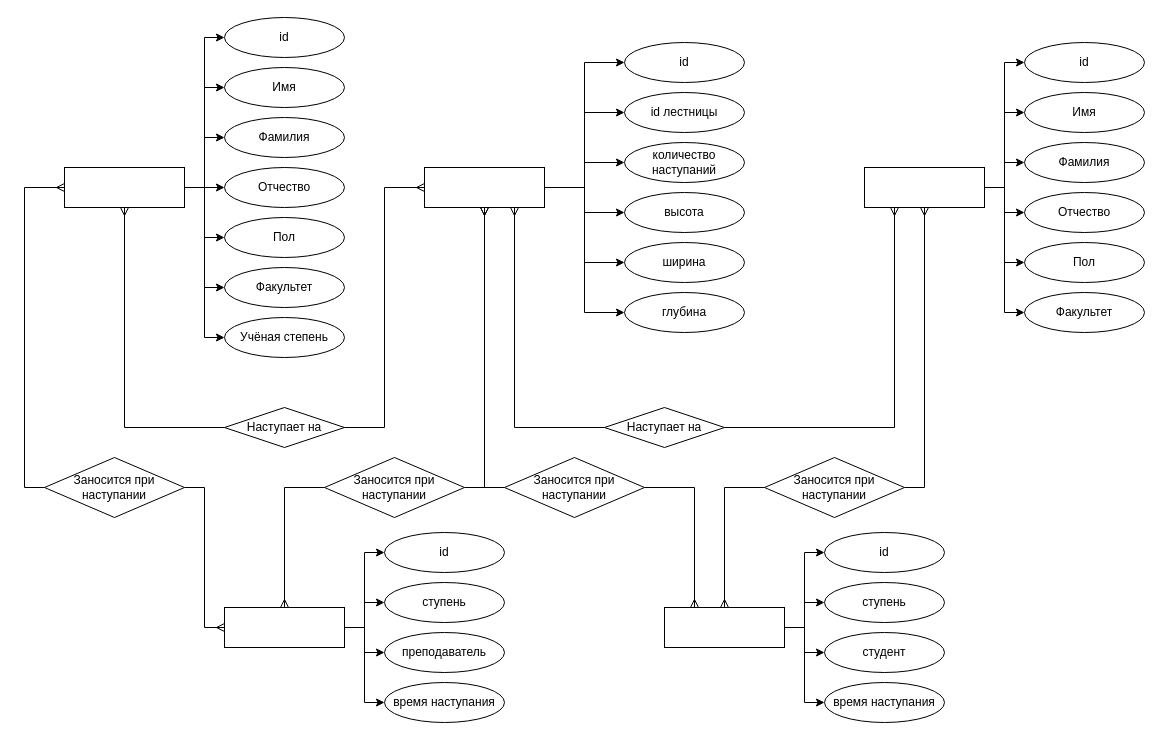
This 1162x740 diagram has some shape labels left out. Here are the shapes that lost their labels. From the top down, the centre of each, then its label:
At [124,187]: "Преподаватели".
At [484,187]: "Ступени".
At [924,187]: "Студенты".
At [284,627]: "Реестр ступеней для преподавателей".
At [724,627]: "Реестр ступеней для студентов".
